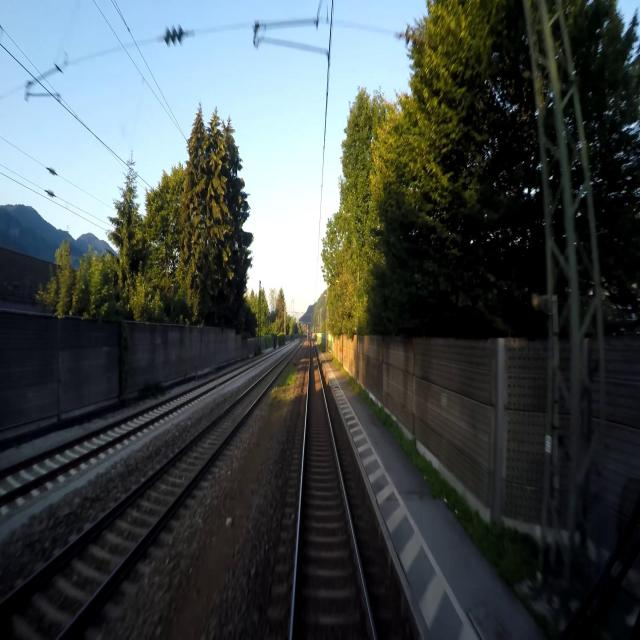rail-track: (0, 356, 288, 639), (0, 377, 223, 492), (295, 347, 373, 639)
